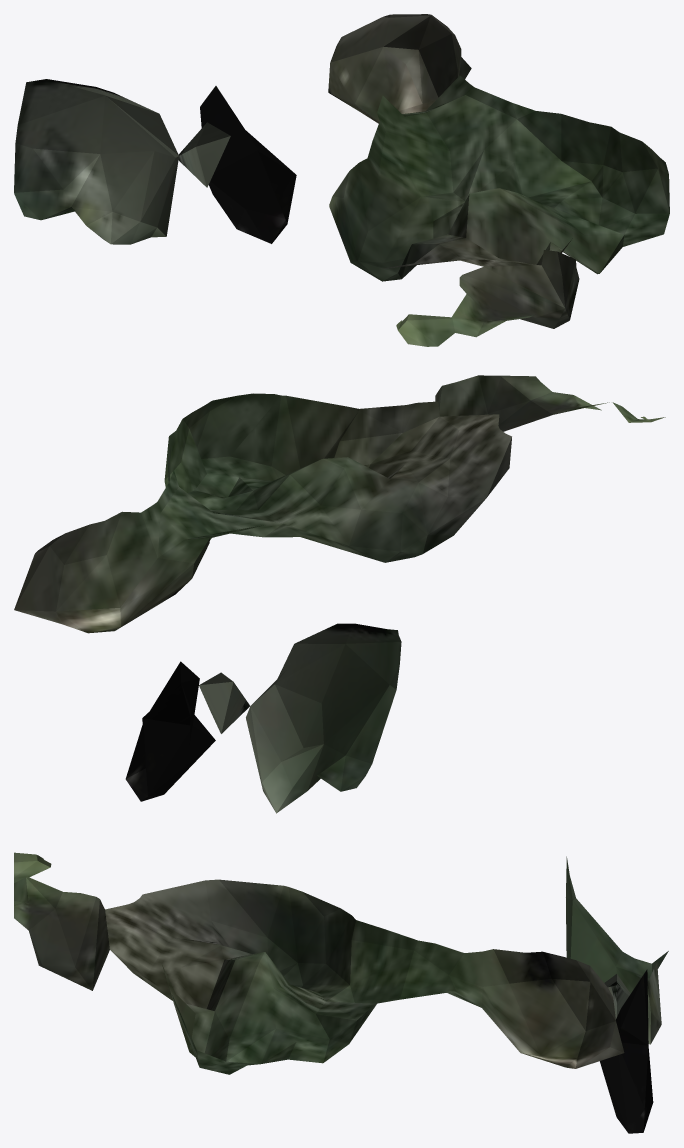
3 renders of one model, top to bottom at view 1: azimuth 30°, elevation 25°; view 2: azimuth 150°, elevation 25°; view 3: azimuth 270°, elevation 25°, orthographic. The views are drawn at different scales.
Bounding box in the file's own units: 4.9 × 2.41 × 7.59.
Materials: 1 (1 with a texture image).
